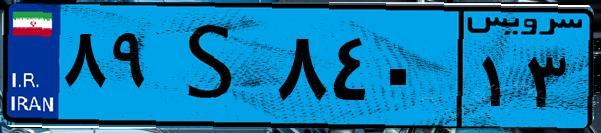0: (385, 28, 445, 110)
1: (475, 38, 525, 113)
3: (525, 38, 570, 115)
4: (330, 28, 385, 110)
8: (270, 28, 330, 110), (57, 26, 110, 100)
9: (110, 28, 158, 98)
S: (158, 12, 270, 120)
